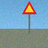sign: (22, 1, 37, 34)
